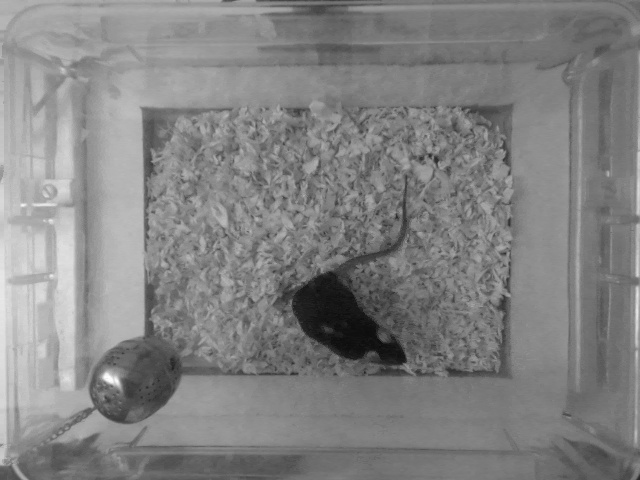mice: (280, 168, 420, 375)
